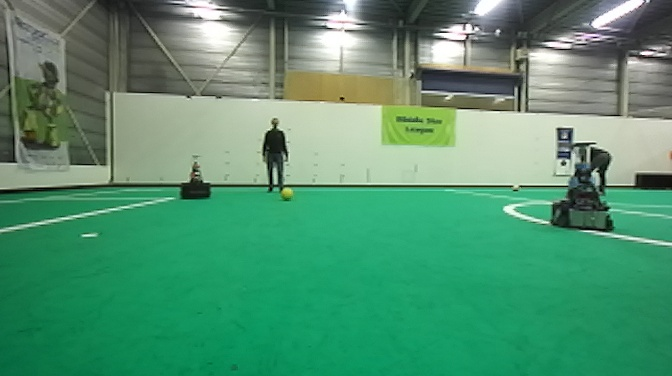ball: (278, 185, 296, 202), (510, 182, 522, 194)
human: (258, 114, 291, 199), (572, 141, 613, 190)
robot: (549, 139, 616, 232), (177, 153, 215, 201)
